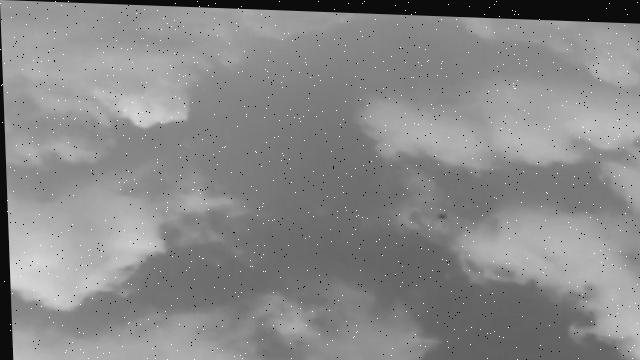drone: (435, 208, 449, 221)
